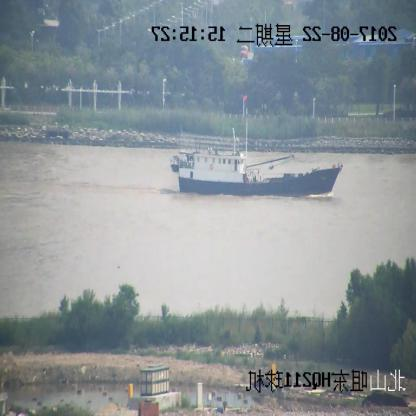Fishing Boat: (171, 100, 342, 197)
